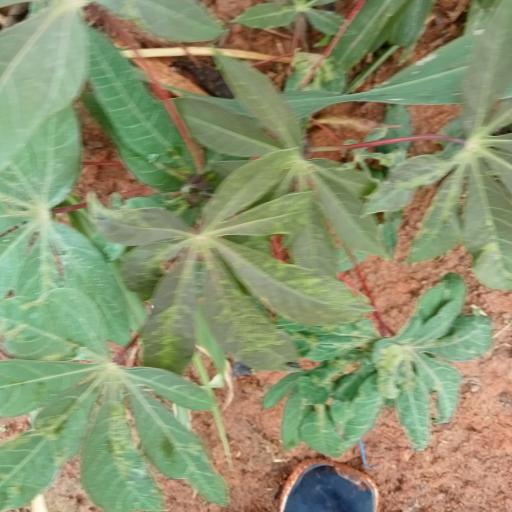Cassava_Mosaic: (82, 157, 360, 365), (253, 264, 495, 458), (5, 337, 216, 498)
